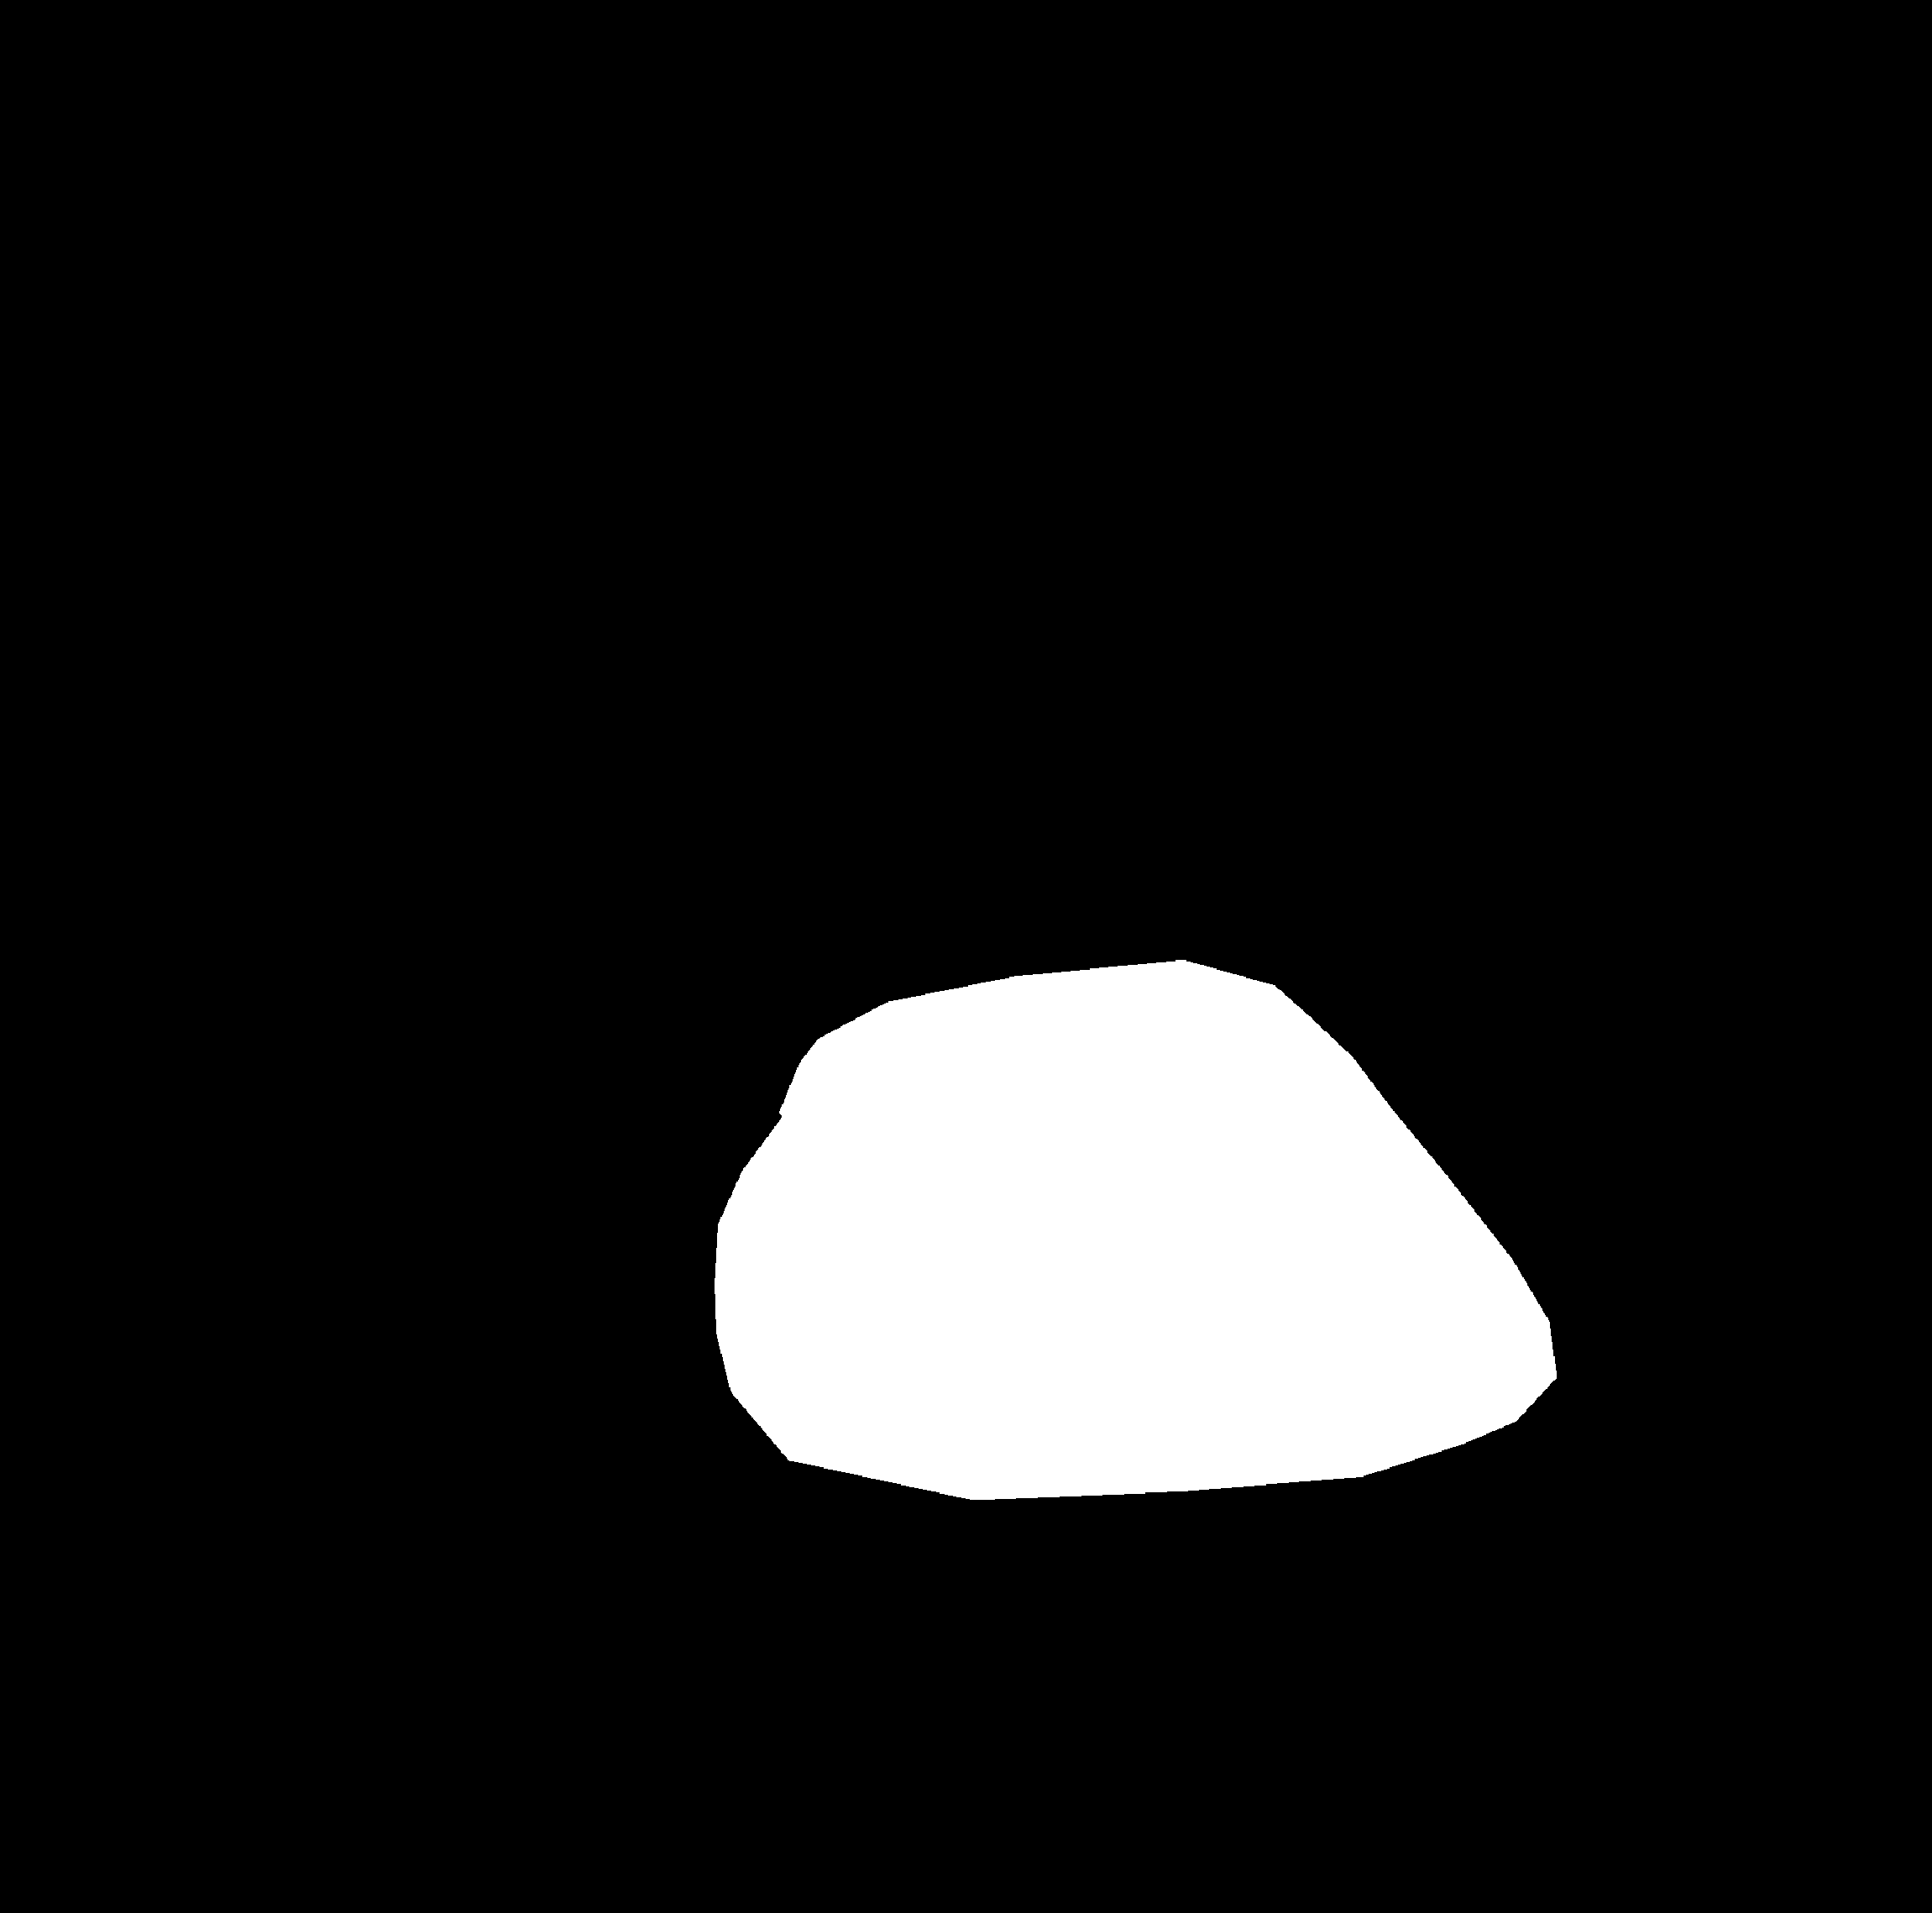heart: (708, 1063, 1557, 1578)
left_lung: (198, 268, 829, 1554)
right_lung: (979, 261, 1685, 1505)
